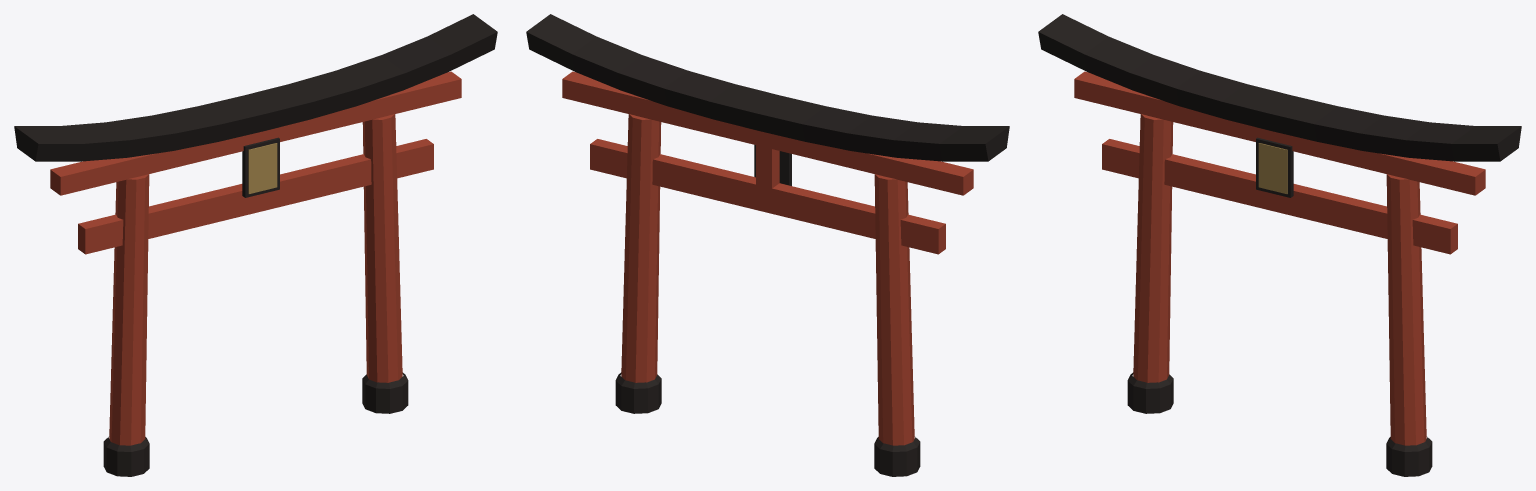
File: torii.glb
3 renders of one model, left to right at view 1: azimuth 30°, elevation 25°; view 2: azimuth 150°, elevation 25°; view 3: azimuth 330°, elevation 25°, orthographic.
Visible parts, largest first — view 1: torii; view 2: torii; view 3: torii.
Boxes of the visible parts, x1,y1,x2,y2 form: torii: [14, 14, 497, 476]; torii: [526, 14, 1009, 476]; torii: [1038, 14, 1521, 476].
Size of the model in its own units: 8.7 by 6.47 by 0.7999.
